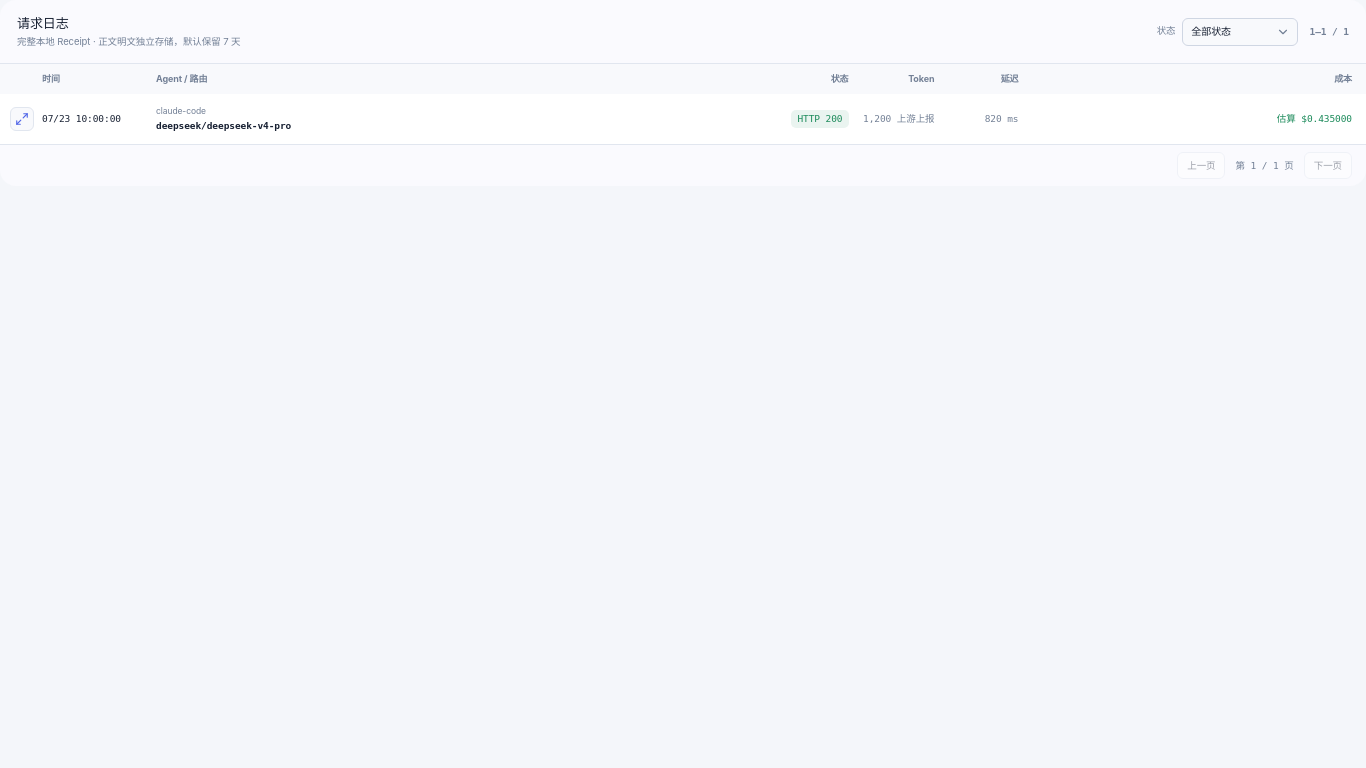
Scenario: UsageRequestLog › 请求列表和详情均披露历史上游输入语义
expect the text "1,200 上游上报" is shown: met, box x1=858 y1=113 x2=934 y2=125
What coordinates should you click on to do the following:
click the text "deepseek/deepseek-v4-pro"
I would click on:
 (224, 126)
Its box is x1=156 y1=120 x2=291 y2=131.
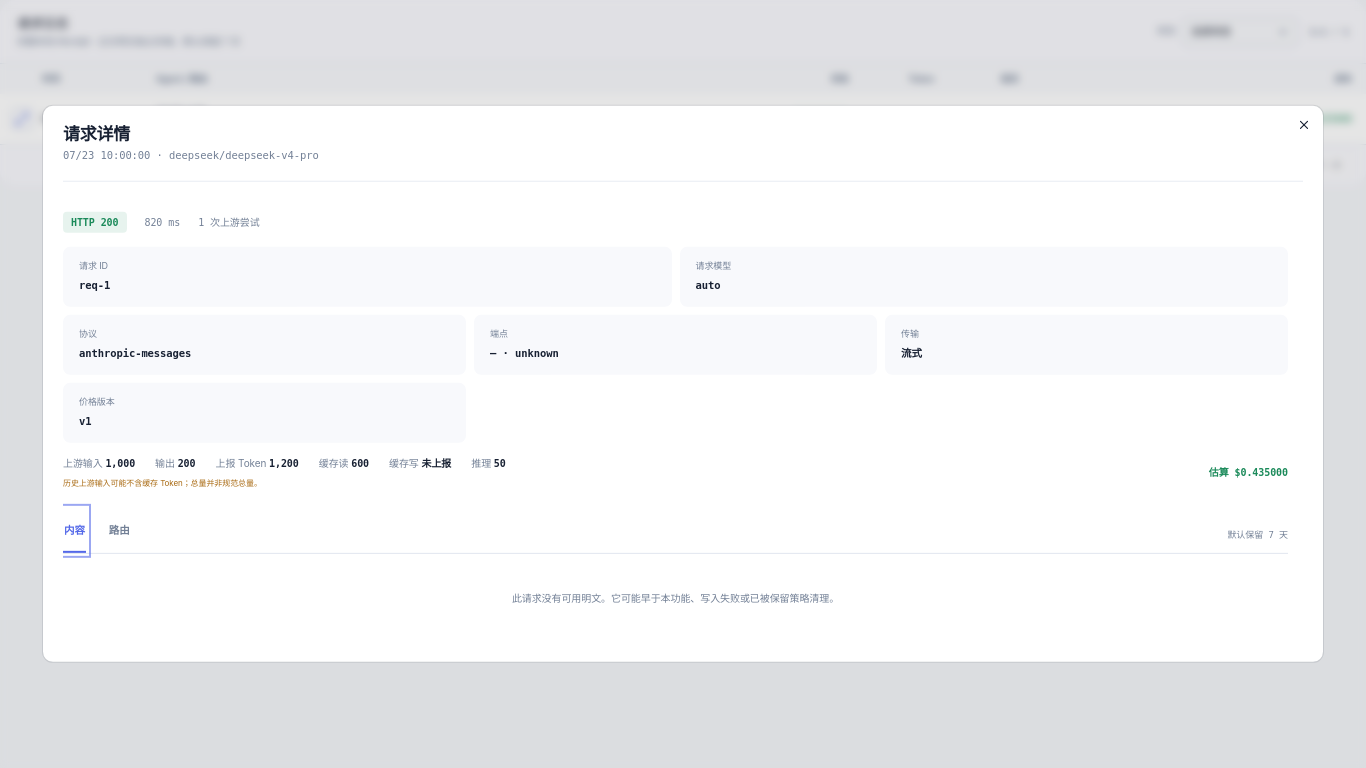
expect the text "上游输入" is shown: met, box x1=63 y1=456 x2=103 y2=468
expect the text "历史上游输入可能不含缓存 Token；总量并非规范总量。" is shown: met, box x1=63 y1=478 x2=262 y2=488
